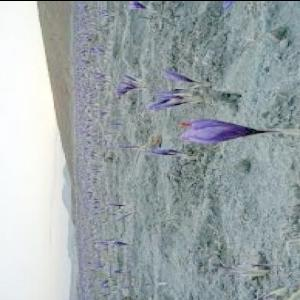Saffron: (182, 118, 257, 142), (162, 71, 193, 81), (142, 147, 179, 154), (129, 0, 147, 9)
